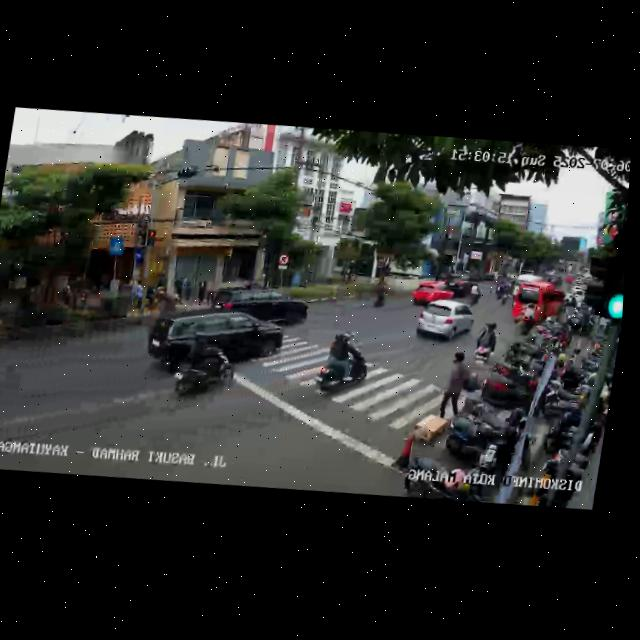car: (142, 297, 286, 378), (206, 278, 314, 330), (412, 296, 477, 348), (510, 278, 569, 335), (409, 278, 456, 310), (446, 272, 474, 297)
motorcycle: (165, 331, 239, 405), (310, 329, 373, 402), (474, 321, 498, 366), (494, 277, 514, 304), (371, 278, 388, 309), (469, 281, 482, 305)
person: (436, 350, 472, 424)
